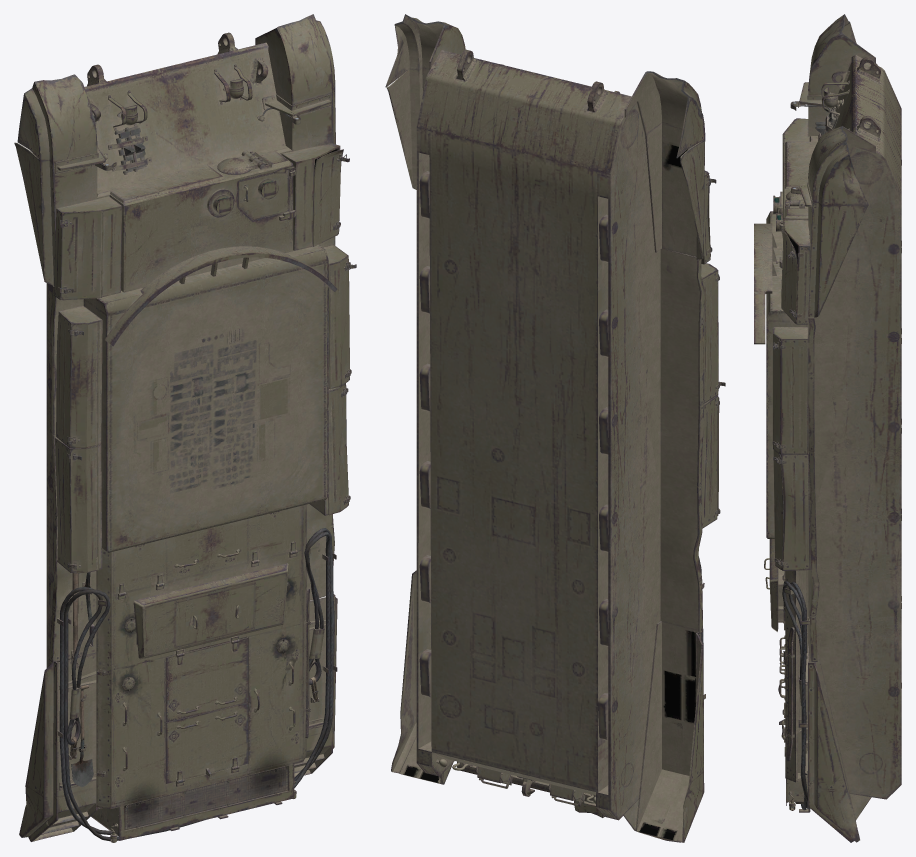
Rendered from Hull.glb.
3 views of the same model, side by side, from view 1: azimuth 30°, elevation 25°; view 2: azimuth 150°, elevation 25°; view 3: azimuth 270°, elevation 25° (orthographic). The views are drawn at different scales.
Parts seen in each view (by area): view 1: set_0_group_0; view 2: set_0_group_0; view 3: set_0_group_0.
Part boxes in pixels (x1,y1,x2,y2): set_0_group_0: (14,14,356,842); set_0_group_0: (385,14,725,842); set_0_group_0: (754,14,901,842).
Size of the model in its own units: 2.91 by 7.15 by 1.36.
1 material, 1 textured.
